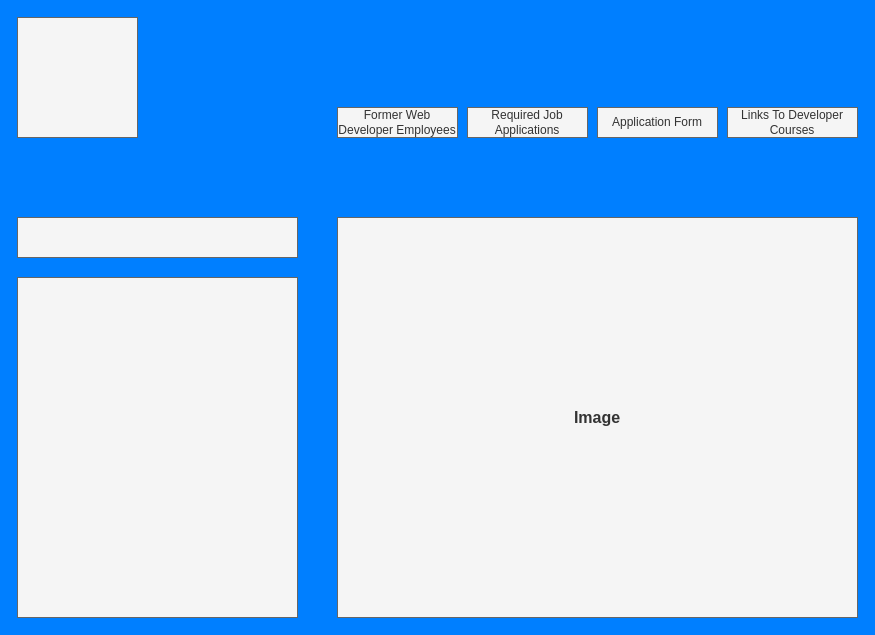
The diagram is 875 pixels wide and 635 high, and some of its shapes have lost their labels. Here are the shapes that lost their labels. From the top down, the centre of each, then its label:
At point 77,77: "Logo".
At point 157,237: "Brand name".
At point 157,447: "Information (Text Format)".
